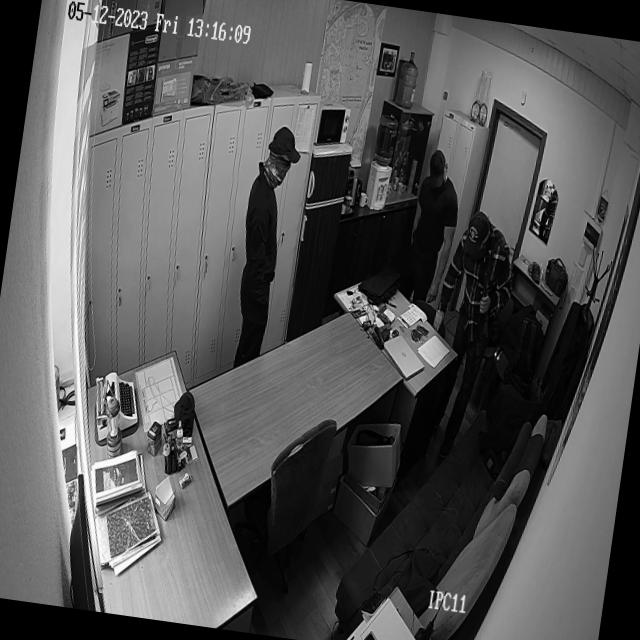gun: (465, 257, 496, 378)
person: (225, 126, 304, 381), (399, 144, 464, 308)
person with a gun: (426, 210, 518, 468)
